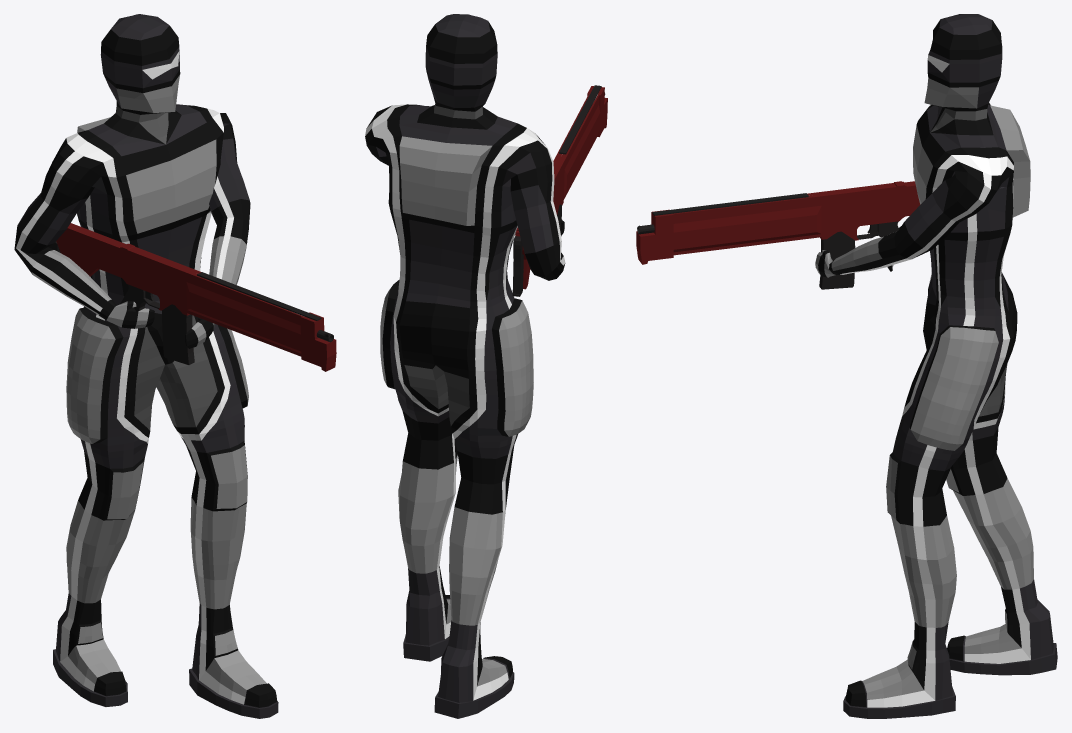
Rendered from MCI5.obj.
3 renders of one model, left to right at view 1: azimuth 30°, elevation 25°; view 2: azimuth 150°, elevation 25°; view 3: azimuth 270°, elevation 25°, orthographic.
Parts seen in each view (by area): view 1: metarig_object_metarig_mesh, Cube.001; view 2: metarig_object_metarig_mesh, Cube.001; view 3: metarig_object_metarig_mesh, Cube.001.
Part boxes in pixels (<box>): metarig_object_metarig_mesh: <box>14,14,278,718</box>; Cube.001: <box>48,223,336,371</box>; metarig_object_metarig_mesh: <box>365,14,565,718</box>; Cube.001: <box>512,85,607,296</box>; metarig_object_metarig_mesh: <box>815,14,1057,718</box>; Cube.001: <box>636,181,920,289</box>.
Bounding box in the file's own units: 0.538 × 1.69 × 0.9747.
2 materials, 2 textured.
